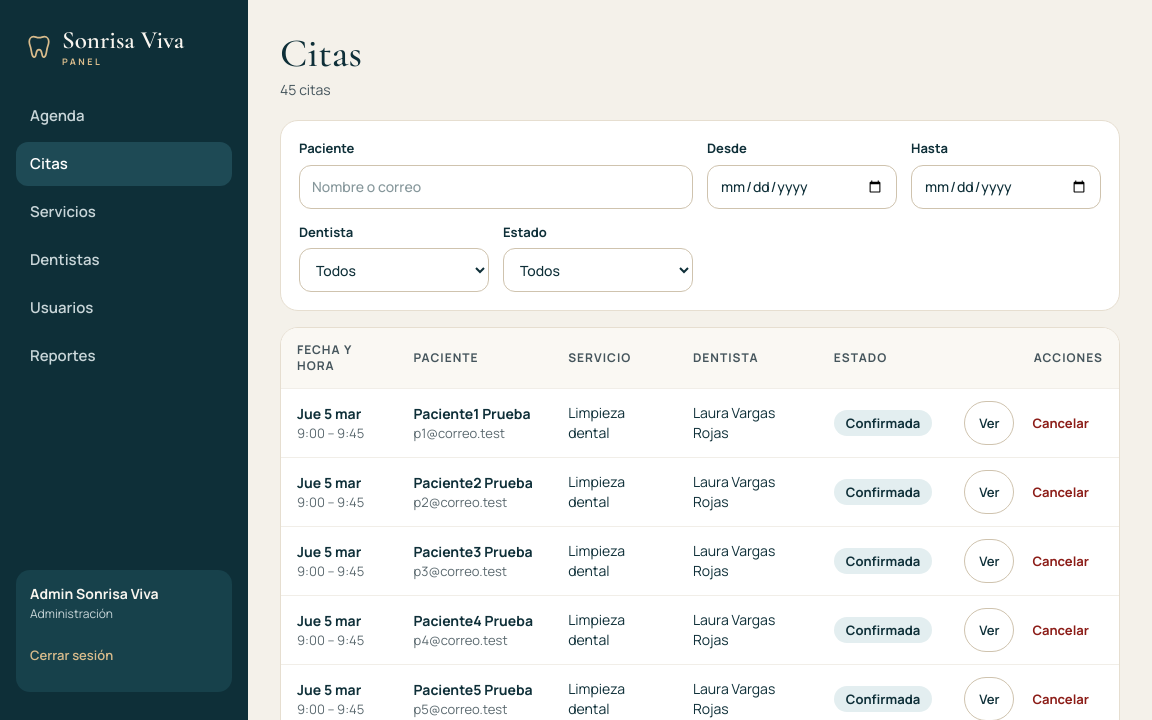
Scenario: Lista de citas › ver abre el detalle de la cita
Step 1. Click the button with aria-label "Ver cita de Paciente2 Prueba" → (989, 492), box [964,470,1014,514]
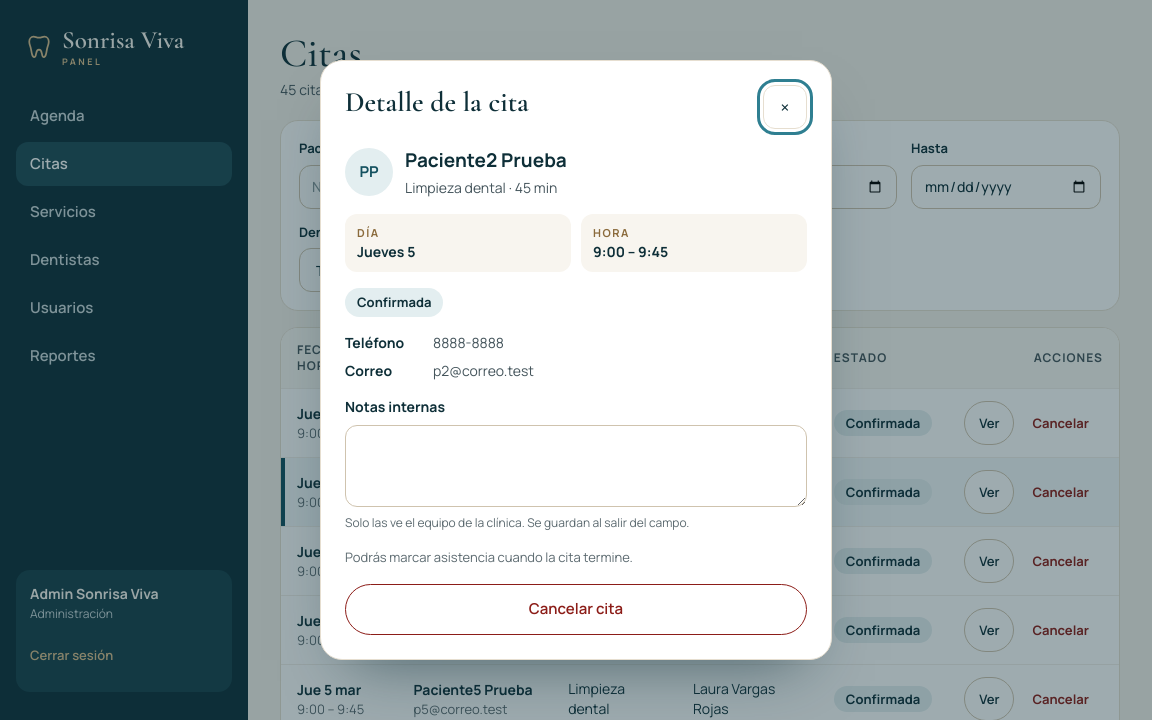
Result: the heading "Paciente2 Prueba" is shown at [405,145,567,176]
Result: the text box labelled "Notas internas" is shown at [345,425,807,507]
